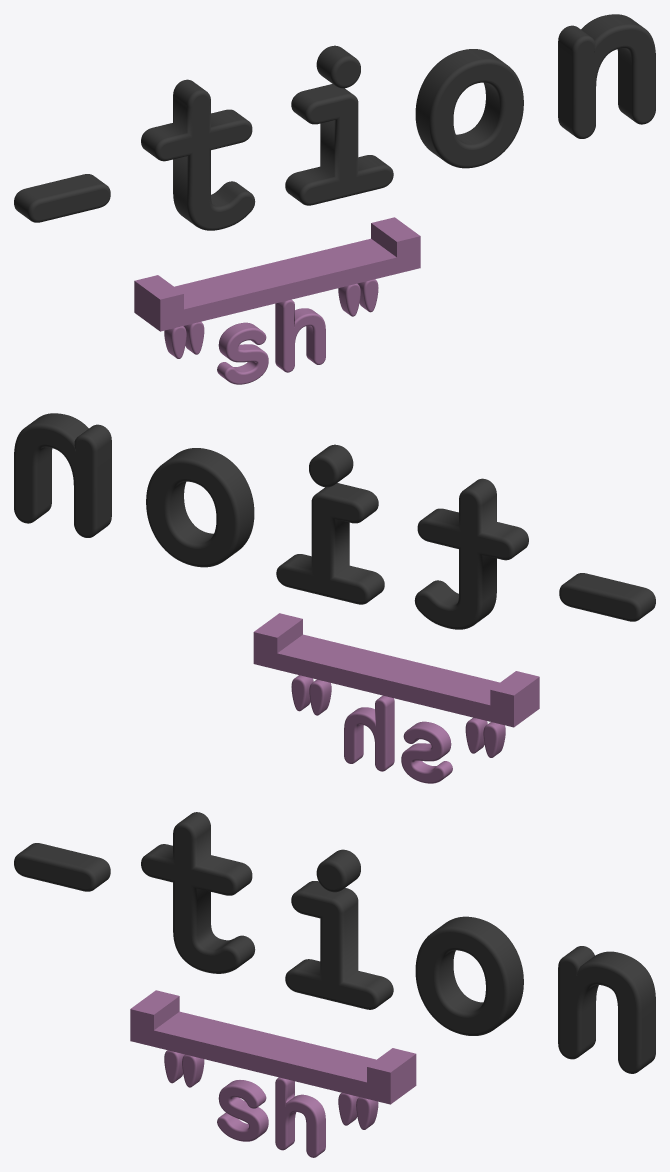
Rendered from -tion.gltf.
The picture shows the model from 3 angles, top to bottom: view 1: azimuth 30°, elevation 25°; view 2: azimuth 150°, elevation 25°; view 3: azimuth 330°, elevation 25°; orthographic projection.
Visible parts, largest first — view 1: Text, Cube.001, Text.002, Text.001; view 2: Text, Cube.001, Text.002, Text.001; view 3: Text, Cube.001, Text.002, Text.001.
Part boxes in pixels (left/top/right/bottom): Text: left=14, top=14, right=655, bottom=230; Cube.001: left=134, top=217, right=420, bottom=331; Text.002: left=415, top=49, right=523, bottom=168; Text.001: left=164, top=279, right=378, bottom=384; Text: left=14, top=413, right=655, bottom=629; Cube.001: left=253, top=613, right=539, bottom=727; Text.002: left=146, top=448, right=254, bottom=567; Text.001: left=291, top=675, right=505, bottom=783; Text: left=14, top=812, right=655, bottom=1073; Cube.001: left=130, top=990, right=416, bottom=1104; Text.002: left=415, top=916, right=523, bottom=1035; Text.001: left=164, top=1050, right=378, bottom=1157.
Size of the model in its own units: 2.68 by 1.26 by 0.1906.
